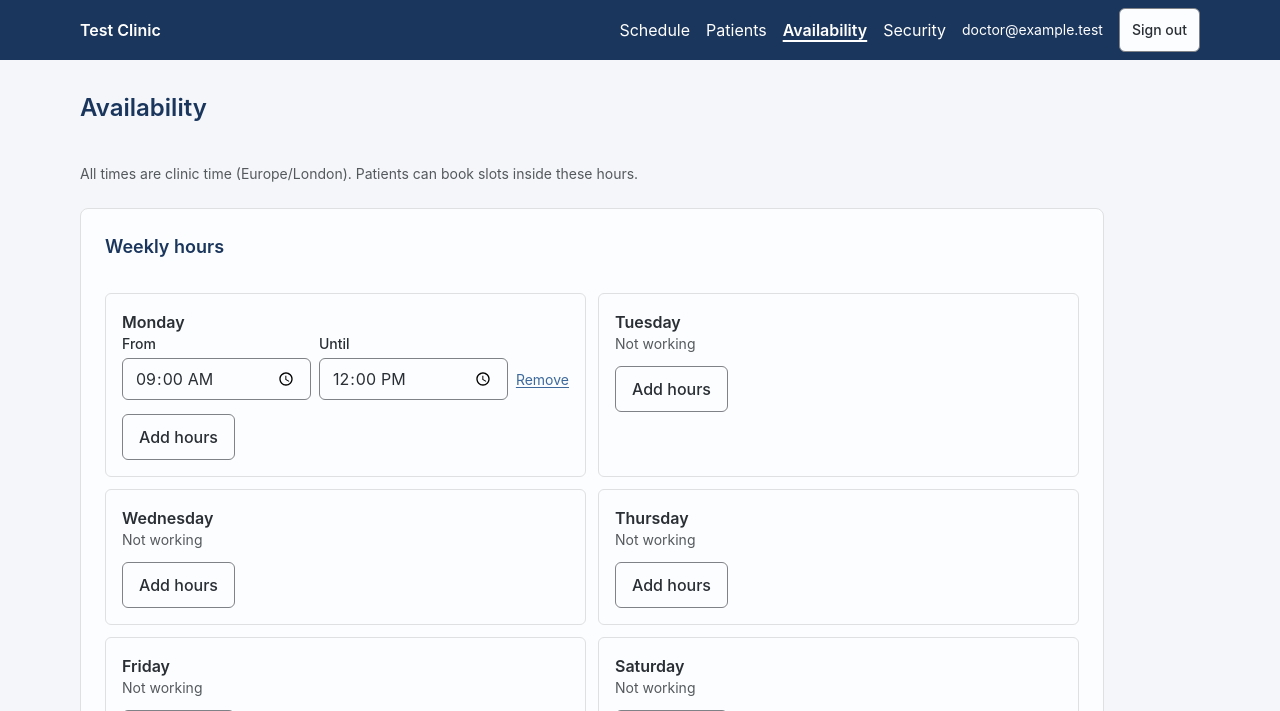
Test: availability page (doctor) › removes a block
Expected: the time field named "Monday hours 1 from" is shown, [122, 358, 311, 400]
Click the button named "Remove Monday hours 1". click: (542, 380)
box: [516, 358, 569, 402]
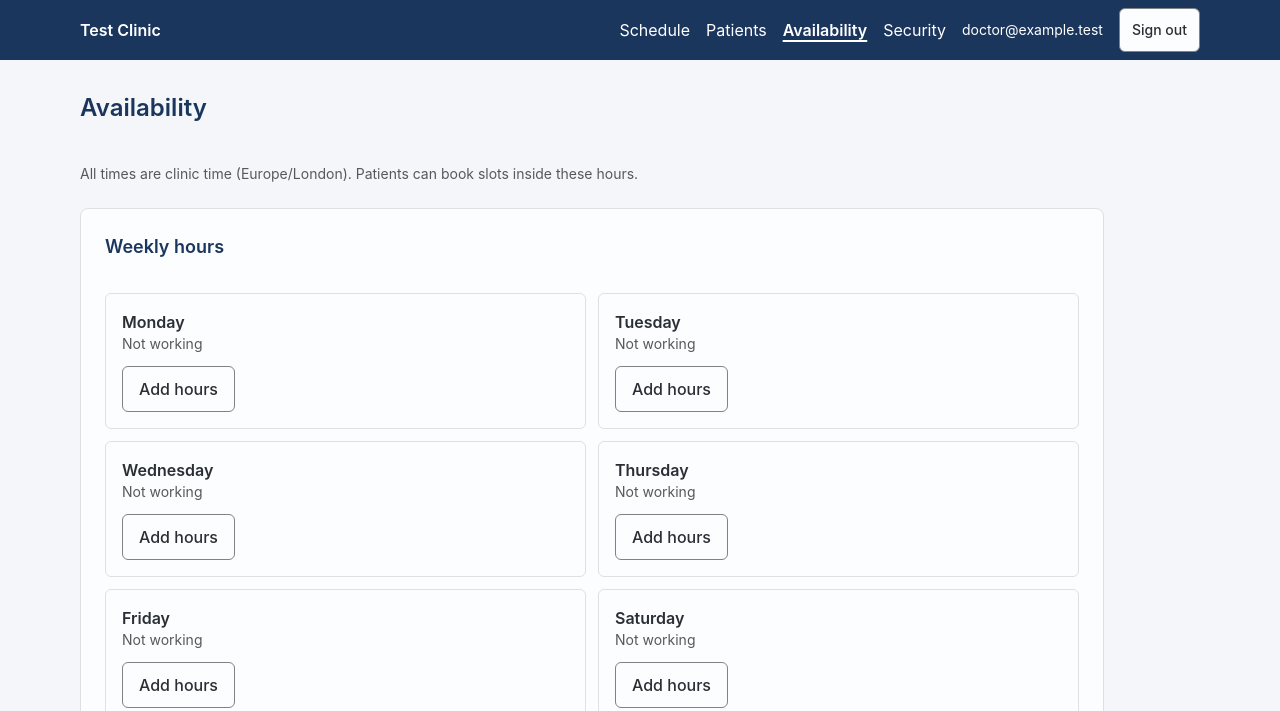
Expected: the text "Not working" below "Monday" is shown, [122, 335, 202, 352]
